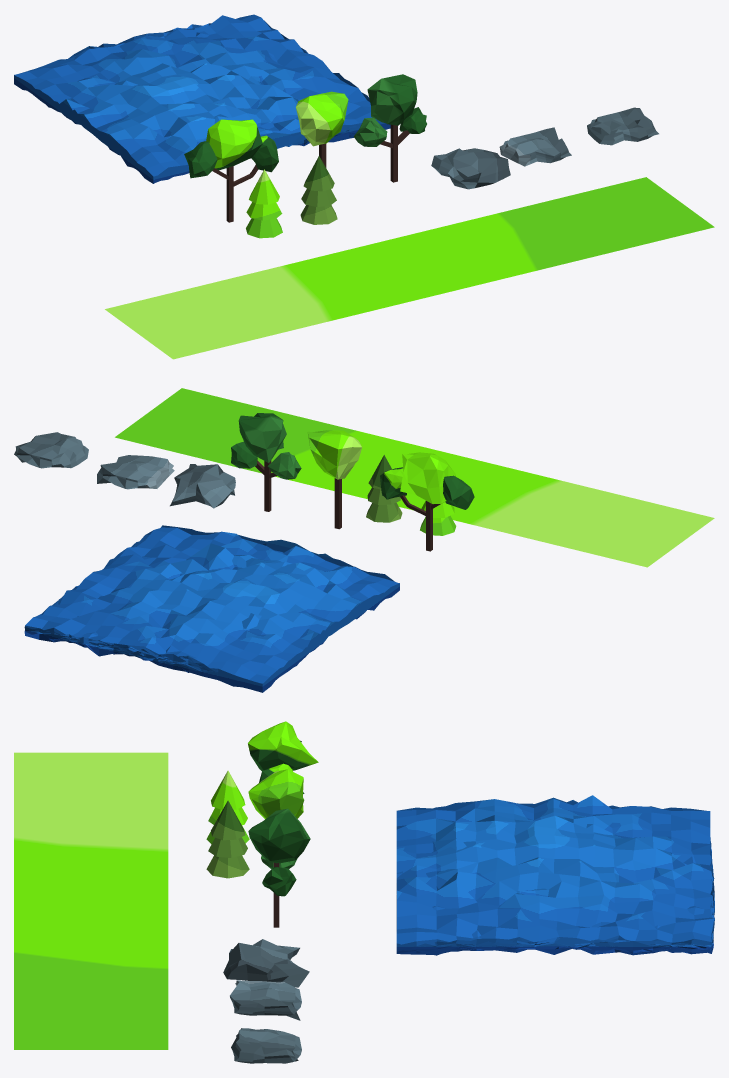
Rendered from Environment.fbx.
The picture shows the model from 3 angles, top to bottom: view 1: azimuth 30°, elevation 25°; view 2: azimuth 150°, elevation 25°; view 3: azimuth 270°, elevation 25°; orthographic projection. The views are drawn at different scales.
Visible parts, largest first — view 1: Plane, Cube.006, Cube.001, Cube.003, Cube, Cube.002, Cube.005, Cube.004, Cone.005, Cone; view 2: Cube.006, Plane, Cube.001, Cube.003, Cube.002, Cube, Cube.004, Cube.005, Cone.005, Cone; view 3: Cube.006, Plane, Cube.003, Cube, Cube.001, Cube.004, Cone.005, Cube.005, Cube.002, Cone.
Part boxes in pixels (box(x1,y1,x2,y2)): Plane: box(105, 177, 714, 359); Cube.006: box(14, 14, 390, 183); Cube.001: box(184, 119, 278, 222); Cube.003: box(353, 74, 426, 182); Cube: box(431, 148, 510, 189); Cube.002: box(296, 91, 348, 167); Cube.005: box(587, 107, 658, 145); Cube.004: box(499, 127, 571, 166); Cone.005: box(300, 156, 337, 224); Cone: box(246, 169, 282, 238); Cube.006: box(24, 525, 399, 692); Plane: box(115, 388, 714, 567); Cube.001: box(380, 452, 474, 551); Cube.003: box(231, 413, 301, 511); Cube.002: box(307, 430, 362, 529); Cube: box(170, 464, 235, 508); Cube.004: box(97, 455, 174, 489); Cube.005: box(14, 432, 88, 468); Cone.005: box(366, 455, 402, 522); Cone: box(420, 501, 456, 535); Cube.006: box(396, 795, 714, 955); Plane: box(14, 752, 168, 1049); Cube.003: box(248, 808, 310, 927); Cube: box(223, 939, 309, 987); Cube.001: box(248, 721, 318, 793); Cube.004: box(230, 980, 301, 1020); Cone.005: box(206, 800, 249, 878); Cube.005: box(231, 1028, 301, 1063); Cube.002: box(248, 769, 304, 819); Cone: box(206, 770, 249, 844).
Bounding box in the file's own units: 30.79 × 33.61 × 6.06.
